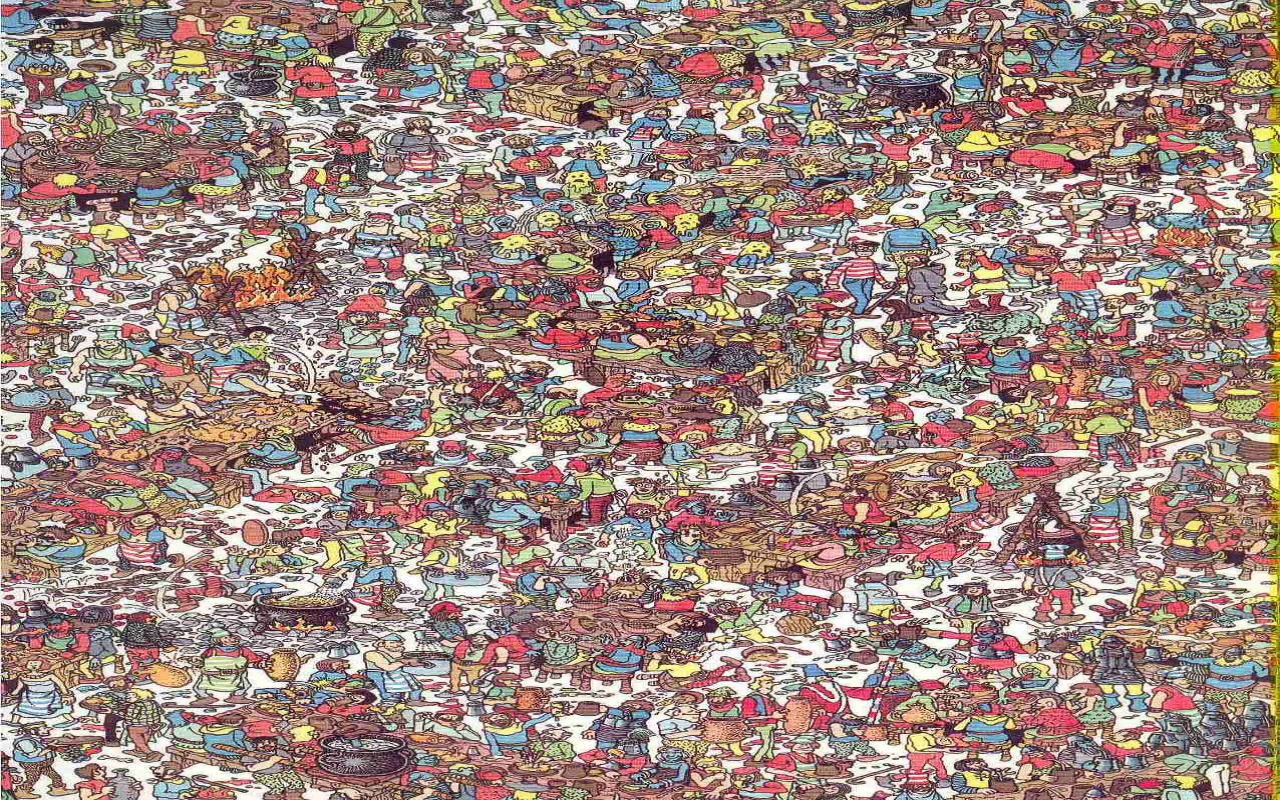waldo: (847, 235, 881, 314)
